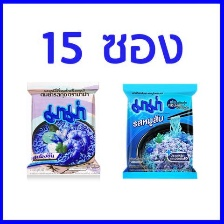snack: (115, 77, 205, 185), (18, 75, 105, 183)
